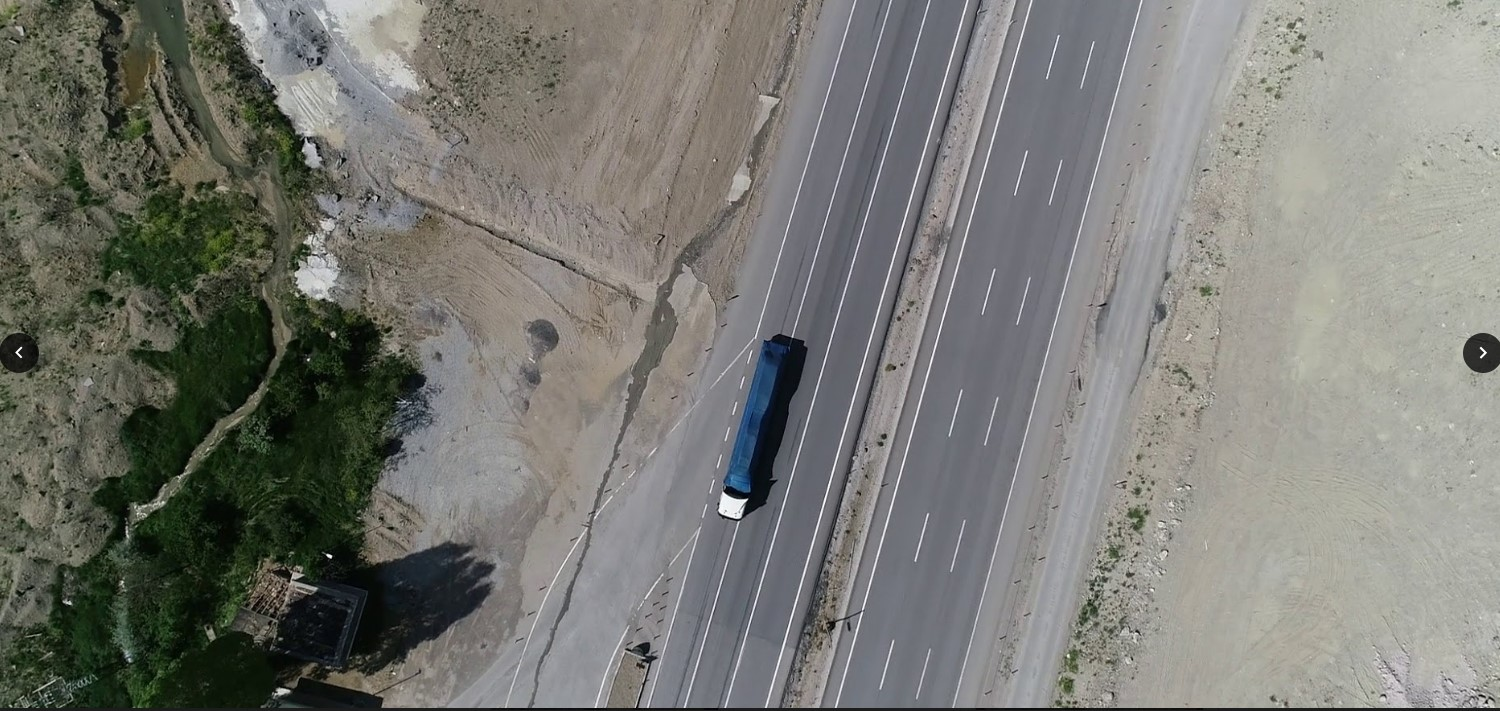kamyon: (717, 332, 801, 521)
